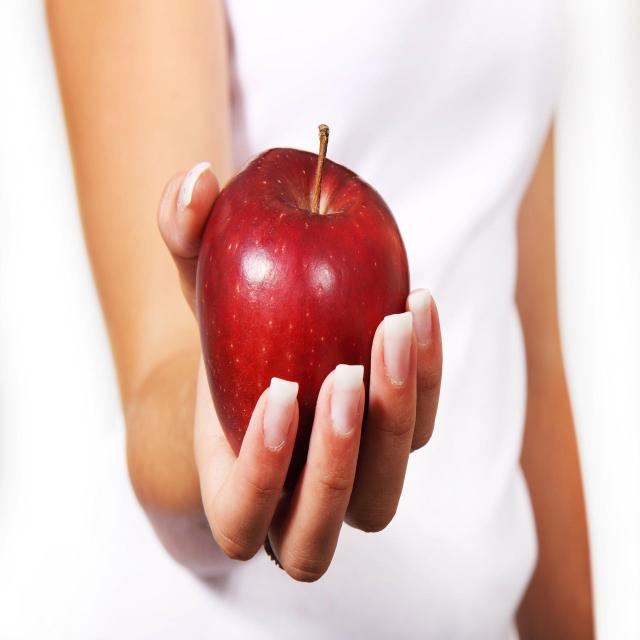manzana: (188, 119, 422, 494)
